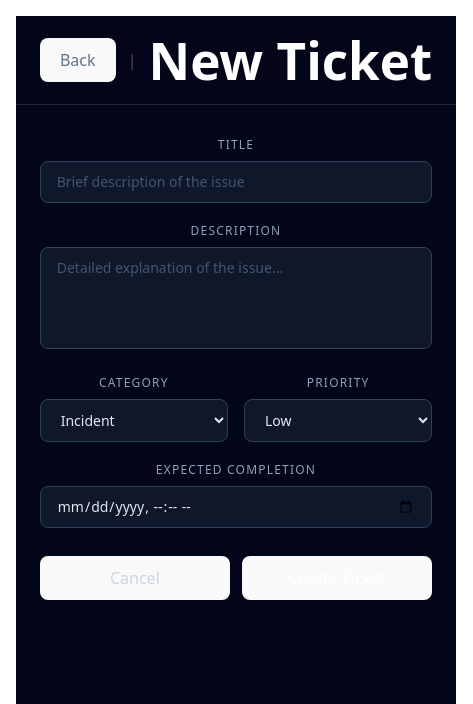
Test: CreateTicketPage › should show error on failed creation
In the field with placeholder "Brief description of the issue": {"x": 236, "y": 182} x1=40 y1=161 x2=432 y2=203, type "Test Title"
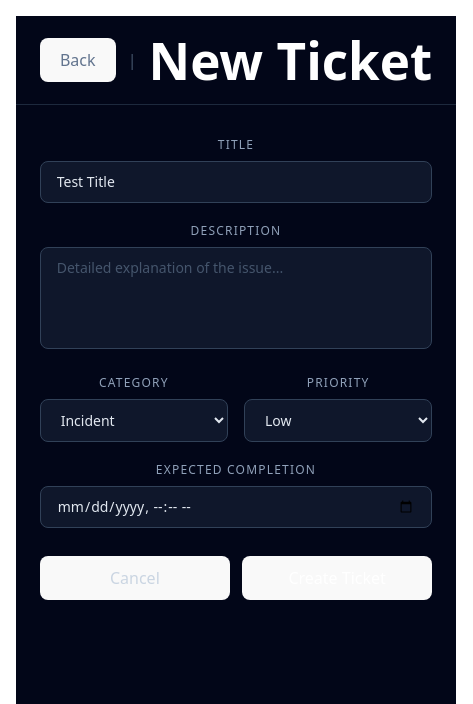
In the text box with placeholder "Detailed explanation of the issue...": {"x": 236, "y": 298} x1=40 y1=247 x2=432 y2=349, type "Test description"
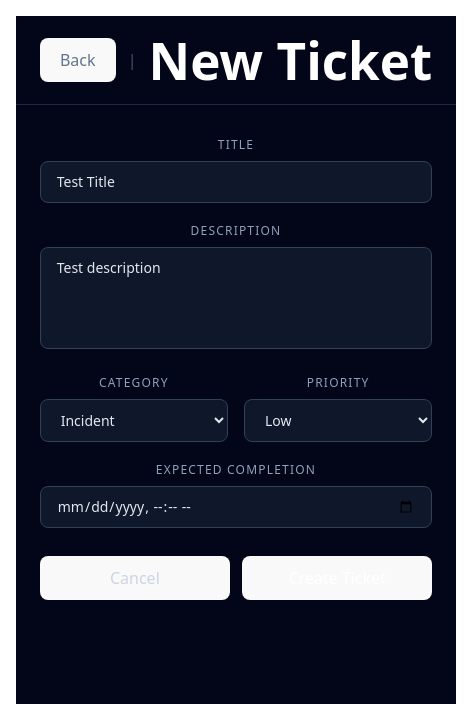
# Set datetime
In the field below "Expected Completion": {"x": 236, "y": 507} x1=40 y1=486 x2=432 y2=528, type "2026-04-01T12:00"
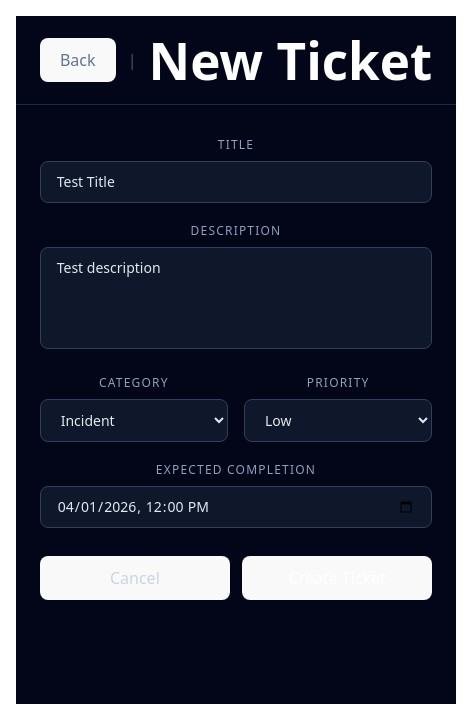
Click the button "Create Ticket": {"x": 337, "y": 578} x1=242 y1=556 x2=432 y2=600
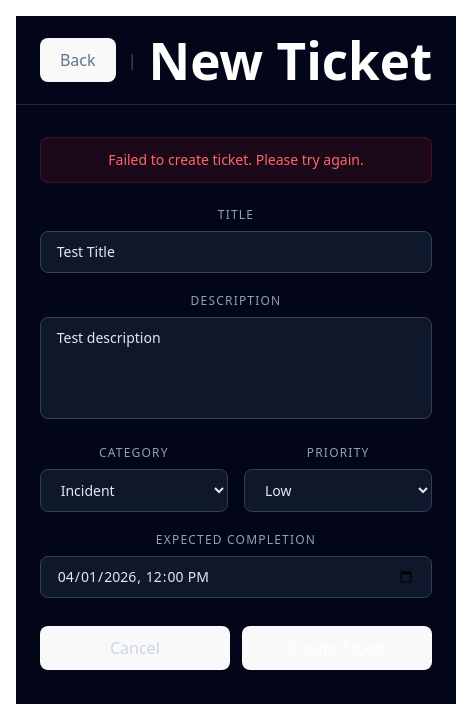
Expected: the text "Failed to create ticket. Please try again." is shown, x1=40 y1=137 x2=432 y2=183
